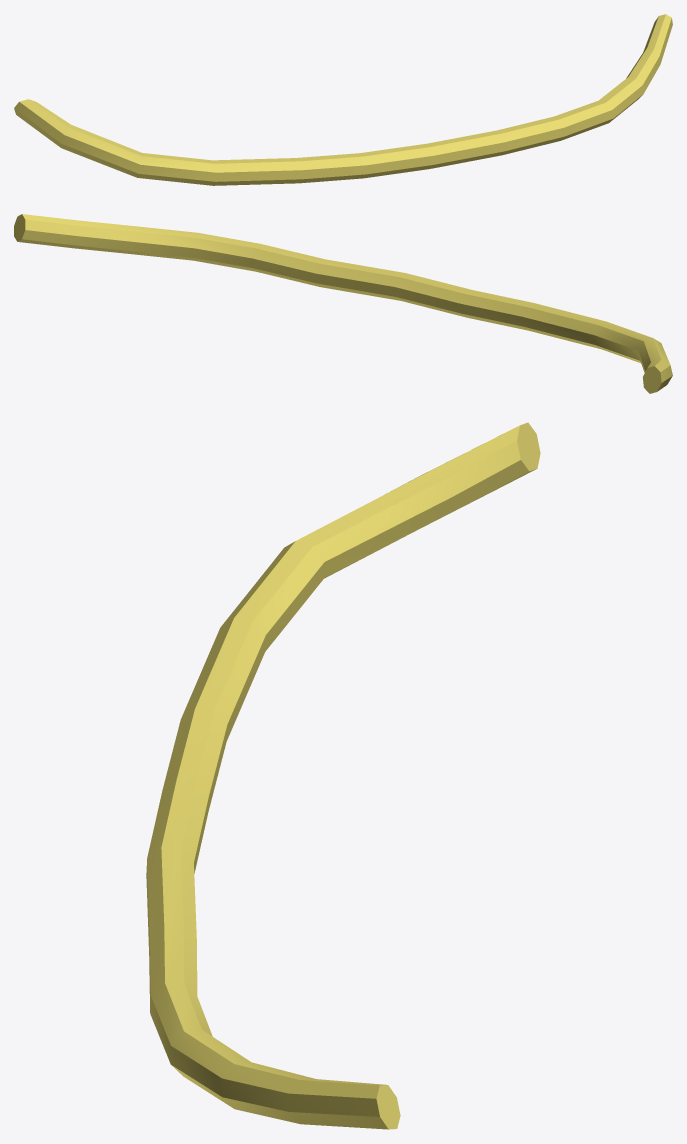
File: Analyzer_Kabel1.fbx
3 views of the same model, one above another, from view 1: azimuth 30°, elevation 25°; view 2: azimuth 150°, elevation 25°; view 3: azimuth 270°, elevation 25° (orthographic). The views are drawn at different scales.
Visible parts, largest first — view 1: pasted__pCylinder16; view 2: pasted__pCylinder16; view 3: pasted__pCylinder16.
Part boxes in pixels (x1,y1,x2,y2): pasted__pCylinder16: (14, 14, 672, 185); pasted__pCylinder16: (14, 214, 672, 393); pasted__pCylinder16: (146, 422, 540, 1129).
Size of the model in its own units: 27.99 by 3.67 by 7.71.
